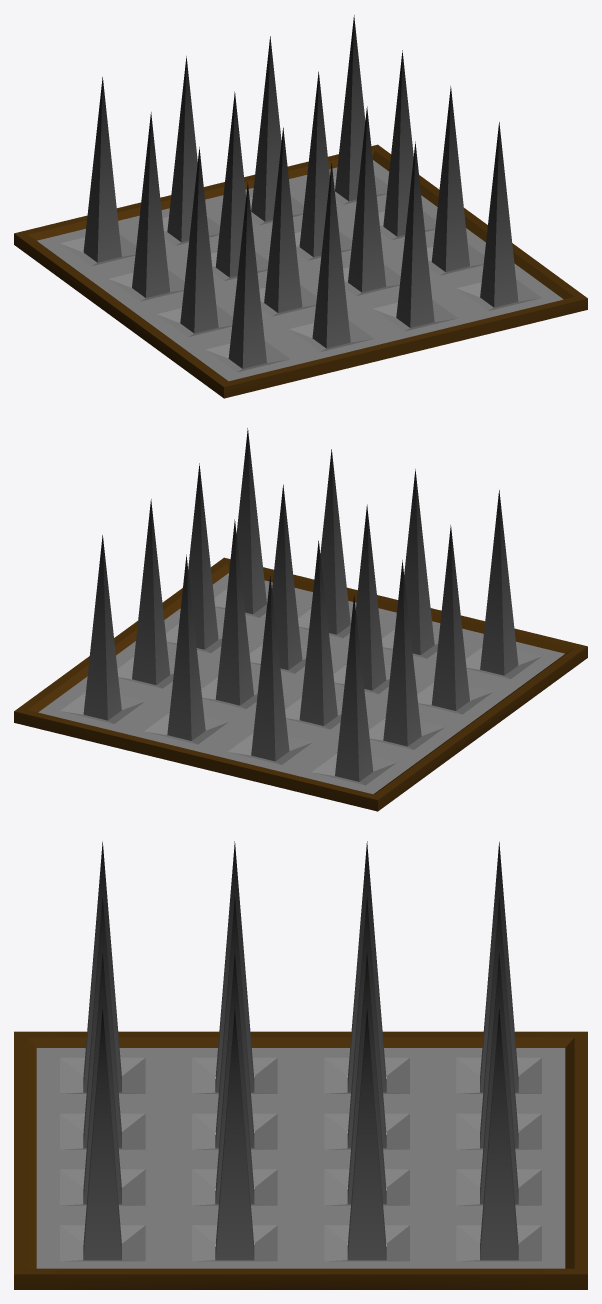
The model's file is GroundSpikes.glb.
3 views of the same model, one above another, from view 1: azimuth 30°, elevation 25°; view 2: azimuth 150°, elevation 25°; view 3: azimuth 270°, elevation 25° (orthographic). The views are drawn at different scales.
Parts seen in each view (by area): view 1: GroundSpikes; view 2: GroundSpikes; view 3: GroundSpikes.
Part boxes in pixels (box(x1,y1,x2,y2)): GroundSpikes: box(14, 15, 587, 398); GroundSpikes: box(14, 428, 587, 811); GroundSpikes: box(14, 841, 587, 1289).
Size of the model in its own units: 200 by 102 by 200.
